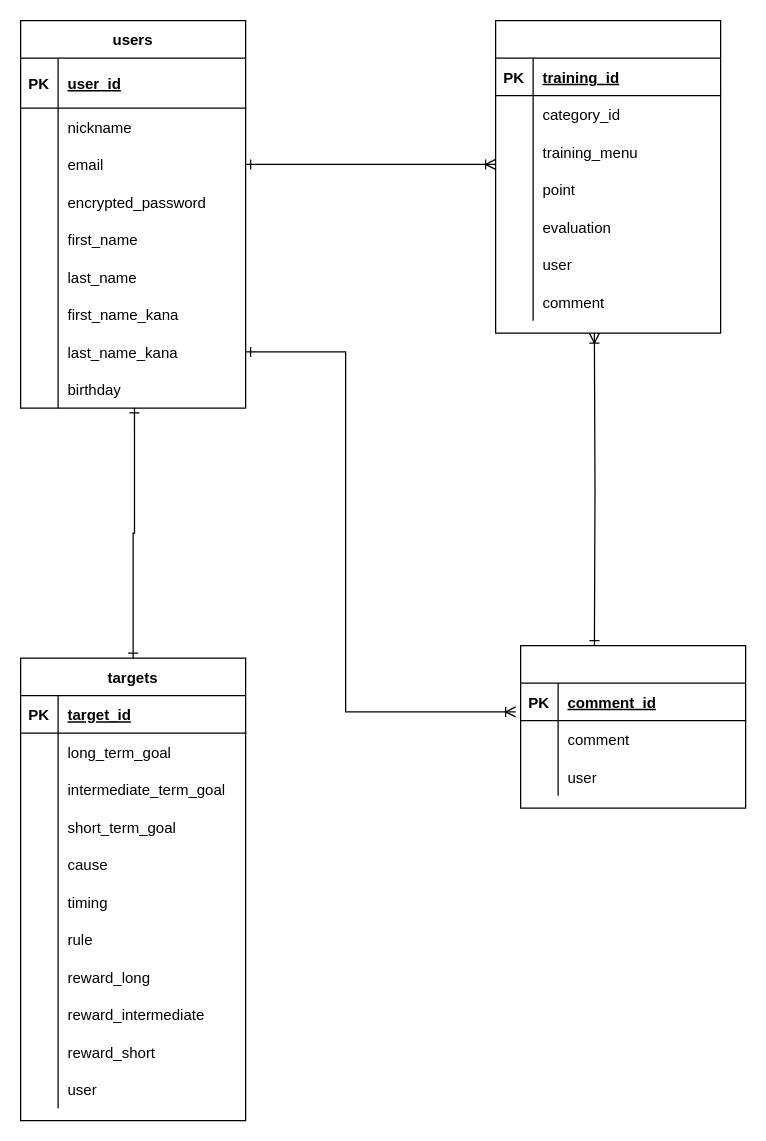
This 766x1141 diagram has some shape labels left out. The box of each missing label's shape, as (x1, y1, x2, y2) in pixels:
comments: (519, 644, 746, 808)
trainings: (494, 19, 721, 333)
